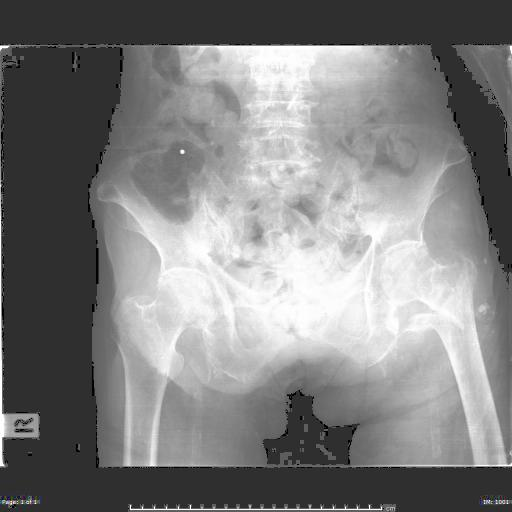intertrochanteric: (399, 250, 492, 403), (380, 248, 463, 328)
normal: (111, 273, 214, 429)
